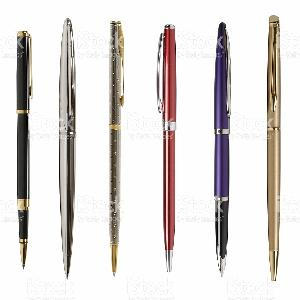pen: (54, 17, 82, 280), (154, 22, 181, 276), (208, 21, 233, 280), (10, 26, 35, 276), (263, 14, 286, 283), (104, 18, 127, 279)
